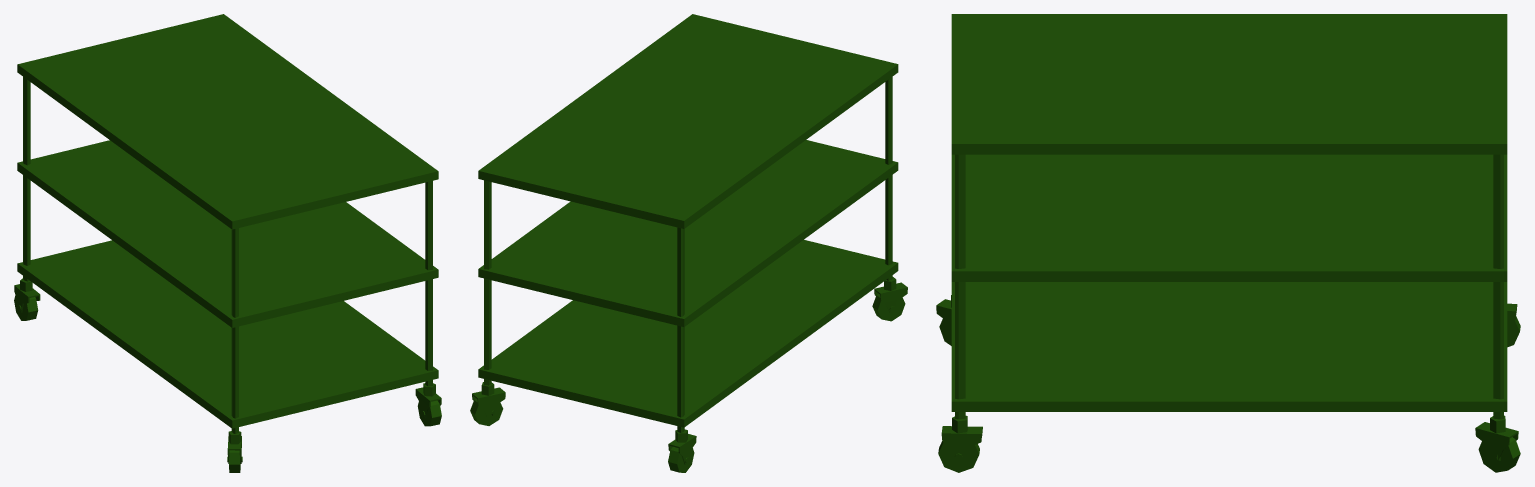
Rendered from Table01.fbx.
3 views of the same model, side by side, from view 1: azimuth 30°, elevation 25°; view 2: azimuth 150°, elevation 25°; view 3: azimuth 270°, elevation 25° (orthographic). The views are drawn at different scales.
Parts seen in each view (by area): view 1: Table01, Table01_Wheels; view 2: Table01, Table01_Wheels; view 3: Table01, Table01_Wheels.
Boxes of the visible parts, <box> form: Table01: <box>17,14,438,433</box>; Table01_Wheels: <box>14,278,441,472</box>; Table01: <box>478,14,898,432</box>; Table01_Wheels: <box>470,277,907,472</box>; Table01: <box>951,14,1507,419</box>; Table01_Wheels: <box>936,295,1520,472</box>.
Size of the model in its own units: 0.3189 by 0.354 by 0.569.
